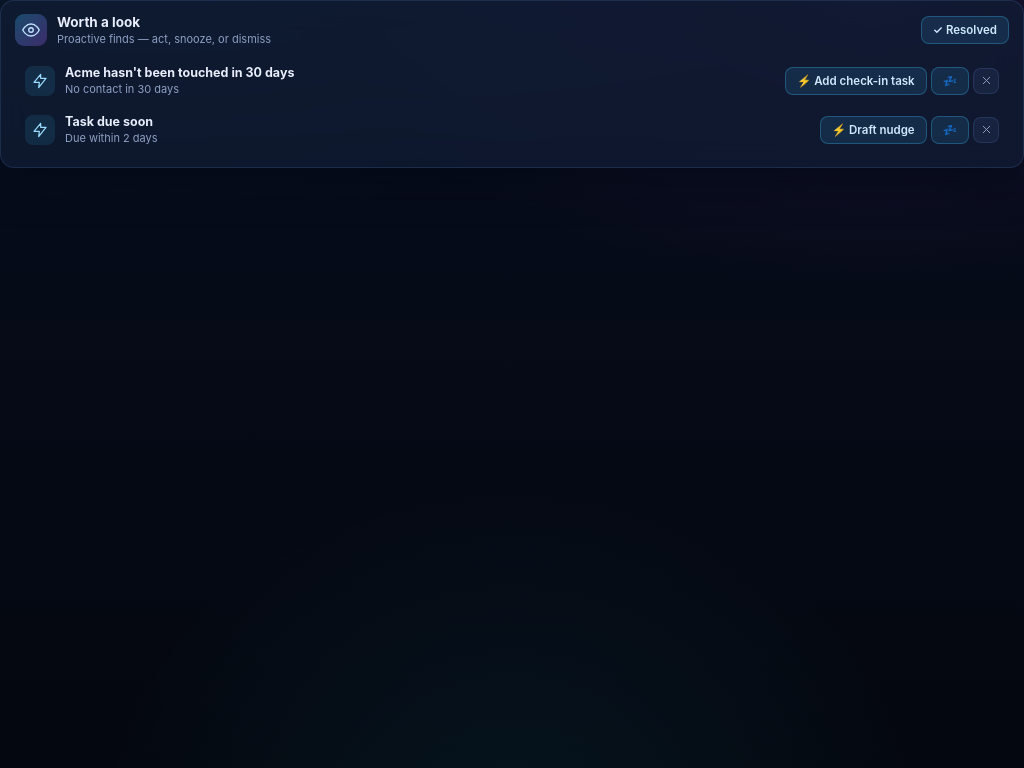
Test case: OpportunitiesCard › dismissing removes the card row and PATCHes the backend
Expected: the text "Task due soon" is shown, [65,114,158,129]
Click the button titled "Dismiss" in the row of "Acme hasn't been touched in 30 days": (986, 80) [973,68,999,94]
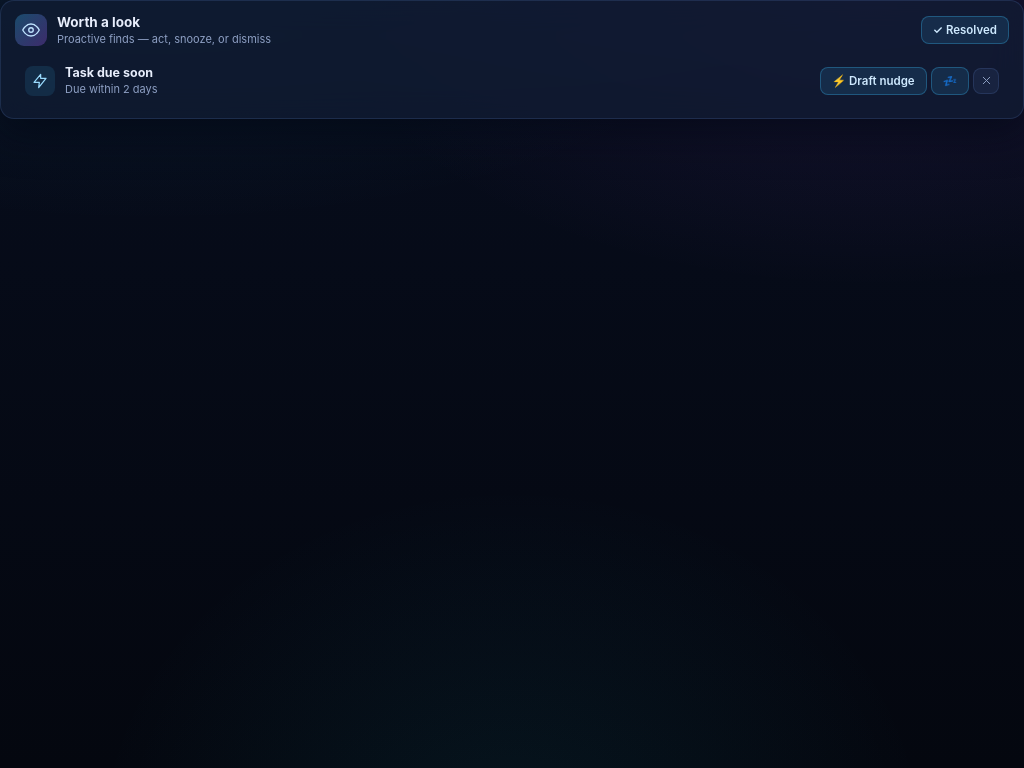
Expected: the text "Task due soon" is shown, [65,65,158,80]
Expected: the text "Acme hasn't been touched in 30 days" is gone
